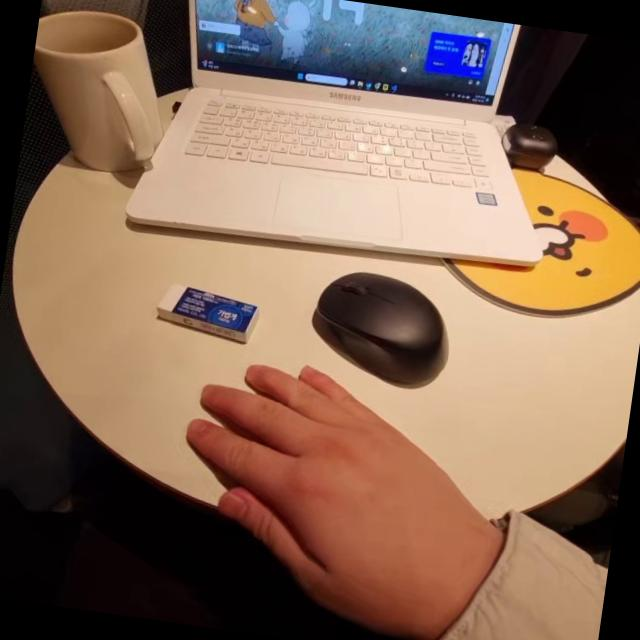eraser: (142, 277, 273, 351)
hand: (174, 351, 530, 640)
mouse: (299, 264, 476, 396)
